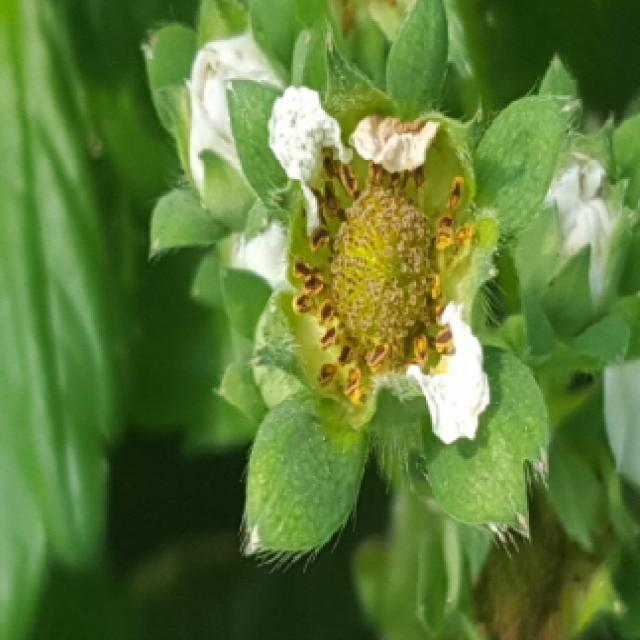Blossom Blight: (283, 131, 498, 426)
